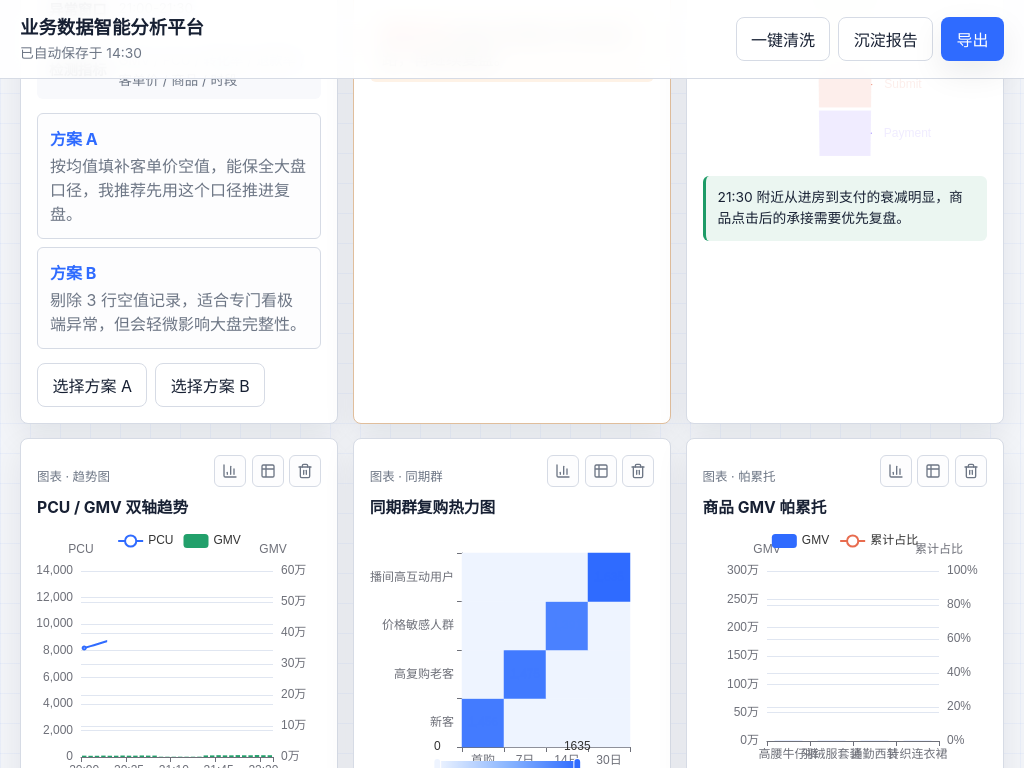
Test: App › appends an AI follow-up block from the contextual bubble
(page scrolled)
Click the button "选择方案 A": coordinates (92, 385) [37,363,147,406]
(page scrolled)
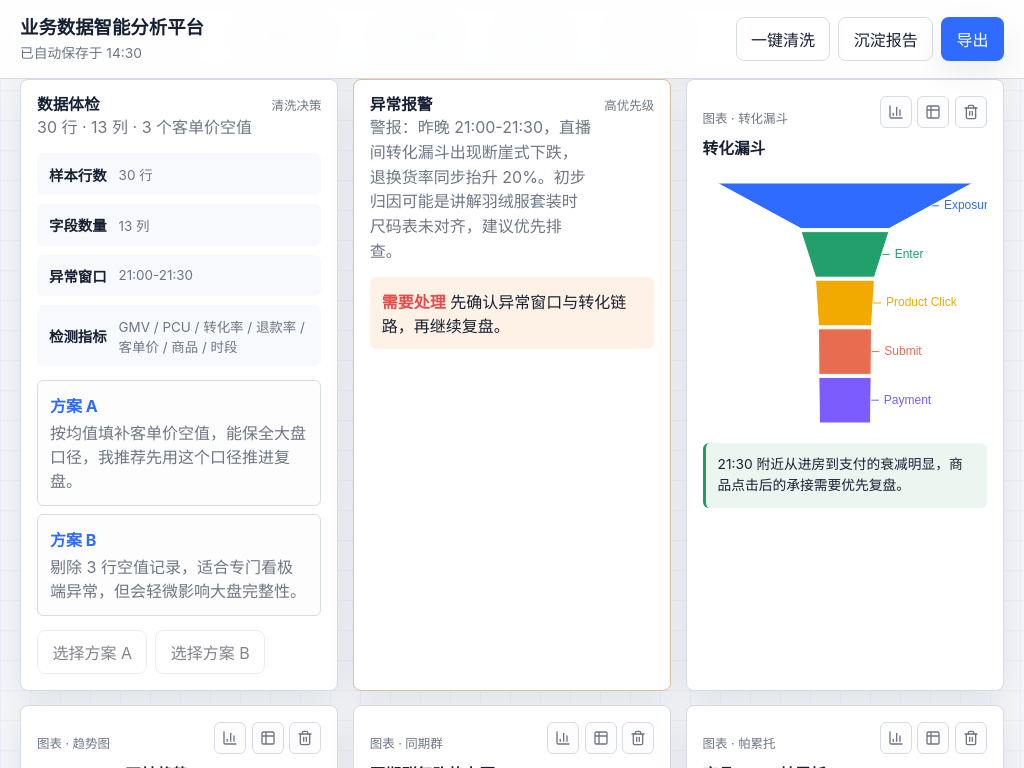
Click the element "转化漏斗 转化漏斗": coordinates (845, 385) [686,79,1004,690]
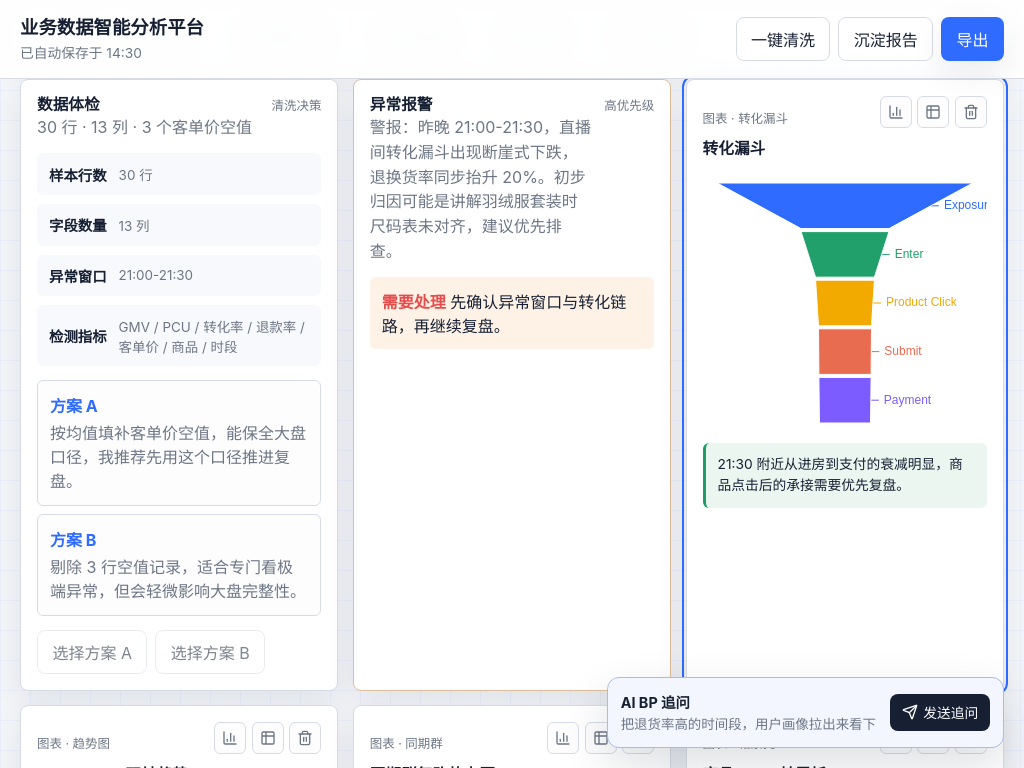
Click the button "发送追问": coordinates (940, 712) [890,694,990,731]
(page scrolled)
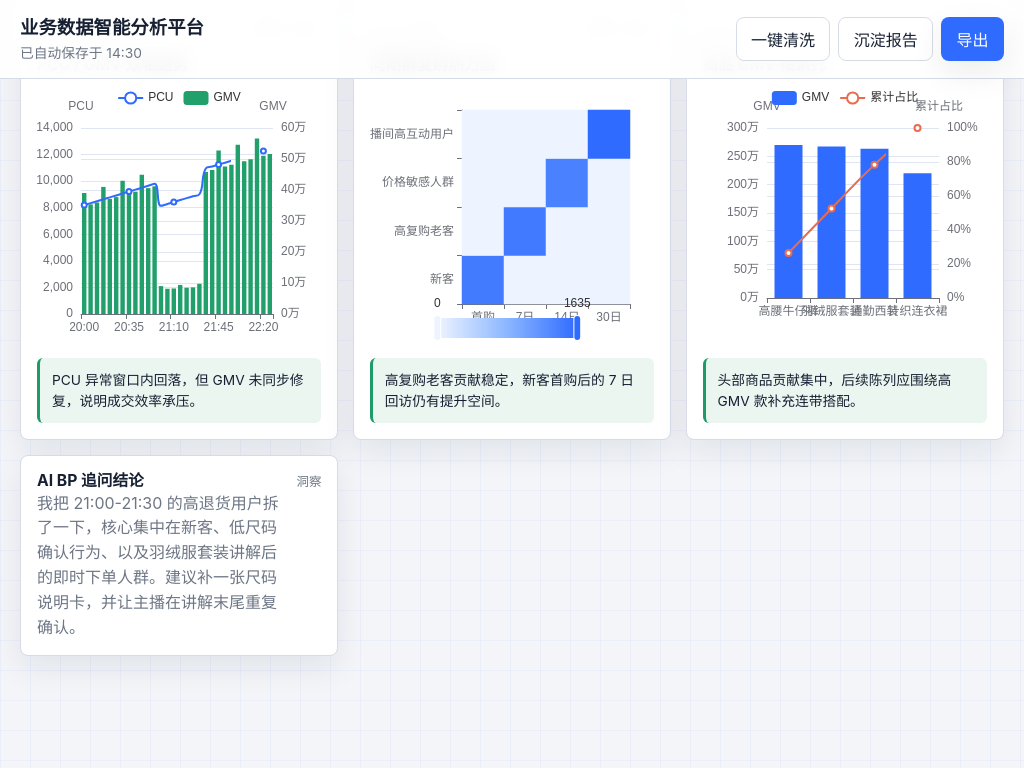
Expected: the heading "AI BP 追问结论" is shown, [37,471,144,490]
Expected: the button "发送追问" is gone
